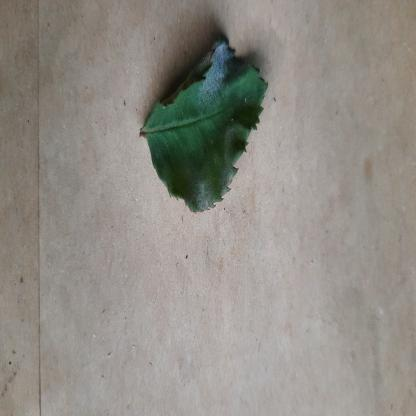powdery-mildew: (142, 33, 273, 216)
